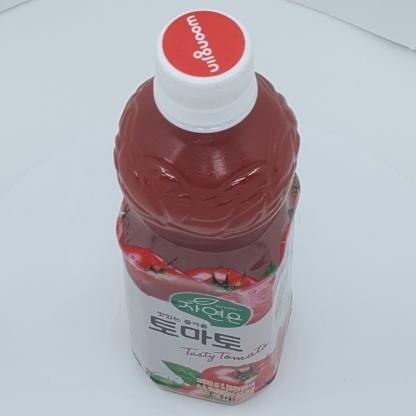--------500ML: (113, 8, 301, 406)
